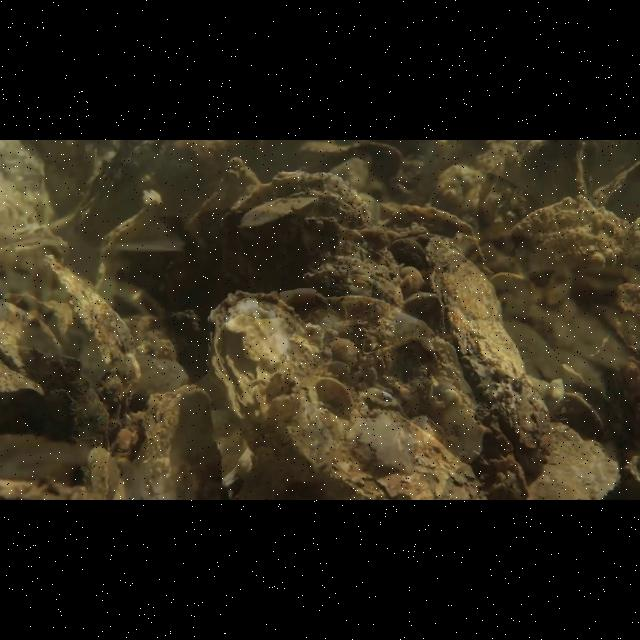Oyster-Closed: (201, 284, 489, 497), (427, 235, 554, 489), (217, 169, 380, 289), (0, 339, 110, 499), (108, 382, 231, 498), (42, 248, 143, 383), (297, 217, 407, 310), (513, 192, 632, 276), (382, 201, 494, 281), (90, 194, 163, 289), (296, 141, 362, 159)
